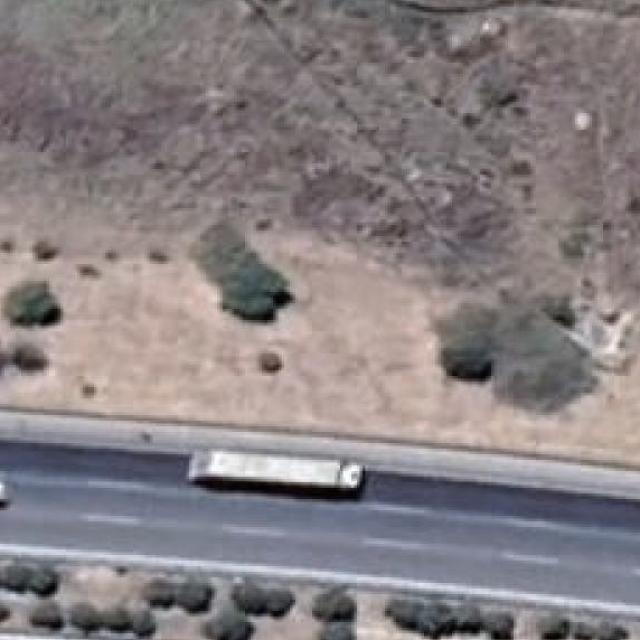Tree: (428, 307, 497, 378), (224, 258, 288, 314), (5, 277, 62, 329), (412, 594, 454, 640), (202, 611, 248, 640), (173, 581, 217, 611), (553, 228, 592, 261), (533, 608, 572, 640), (0, 552, 33, 589), (254, 346, 290, 379), (230, 581, 268, 612), (30, 605, 63, 639), (266, 580, 297, 616), (320, 588, 357, 618), (384, 600, 418, 631), (12, 341, 46, 372), (452, 603, 482, 638), (66, 600, 96, 633), (27, 566, 60, 596), (144, 575, 172, 607), (29, 236, 61, 264), (482, 614, 516, 640), (102, 600, 127, 632), (130, 611, 158, 639), (570, 622, 603, 640), (604, 616, 628, 640), (320, 624, 354, 640)
